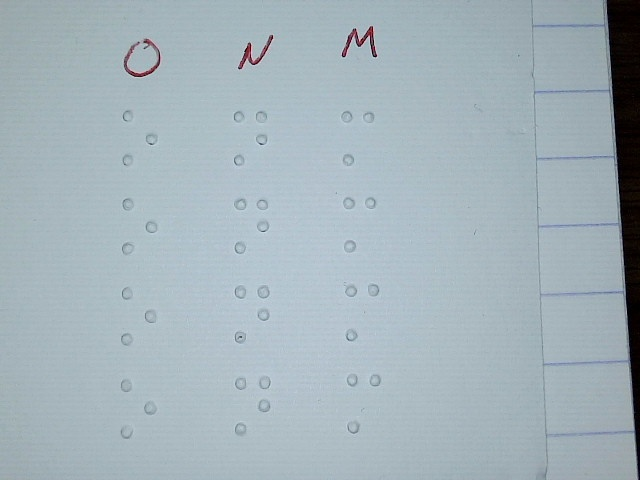N: (235, 374, 271, 436), (234, 283, 271, 343), (346, 371, 381, 433), (232, 109, 268, 167), (233, 197, 269, 255), (341, 108, 376, 166), (343, 194, 378, 252), (345, 282, 380, 340)
O: (120, 378, 158, 439), (121, 109, 159, 167), (121, 197, 159, 255), (120, 286, 158, 344)
